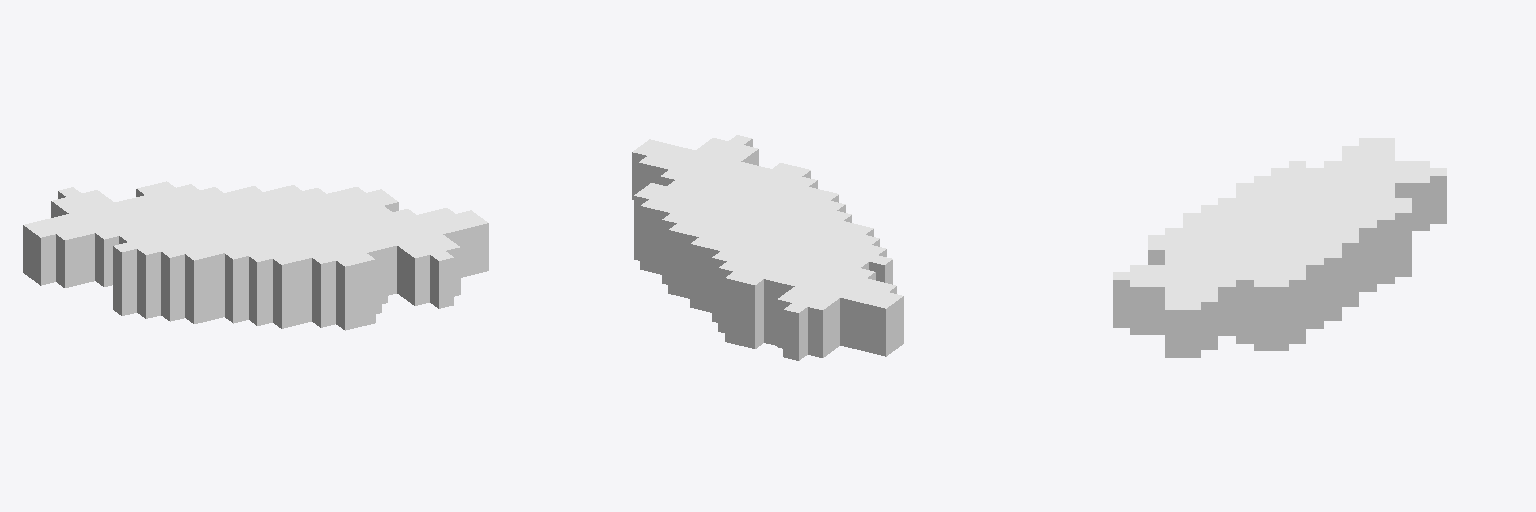
The model's file is Eruption-34.obj.
3 views of the same model, side by side, from view 1: azimuth 30°, elevation 25°; view 2: azimuth 150°, elevation 25°; view 3: azimuth 270°, elevation 25° (orthographic).
Visible parts, largest first — view 1: object 1; view 2: object 1; view 3: object 1.
Boxes of the visible parts, x1,y1,x2,y2 form: object 1: [23, 181, 488, 330]; object 1: [632, 135, 903, 360]; object 1: [1113, 138, 1446, 357].
Size of the model in its own units: 2.3 by 0.4 by 1.9.